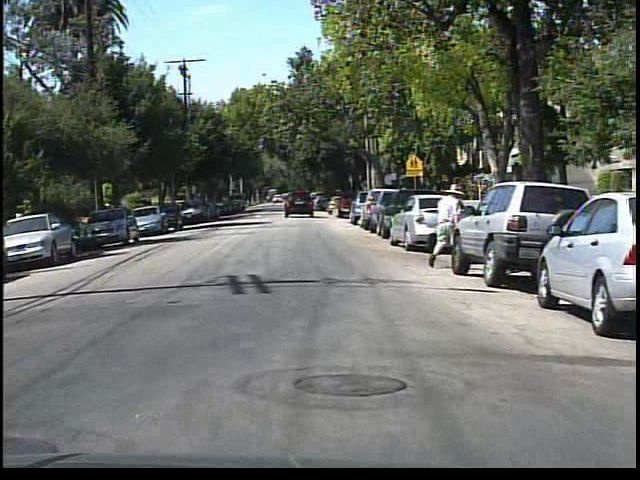person: (424, 181, 467, 271)
